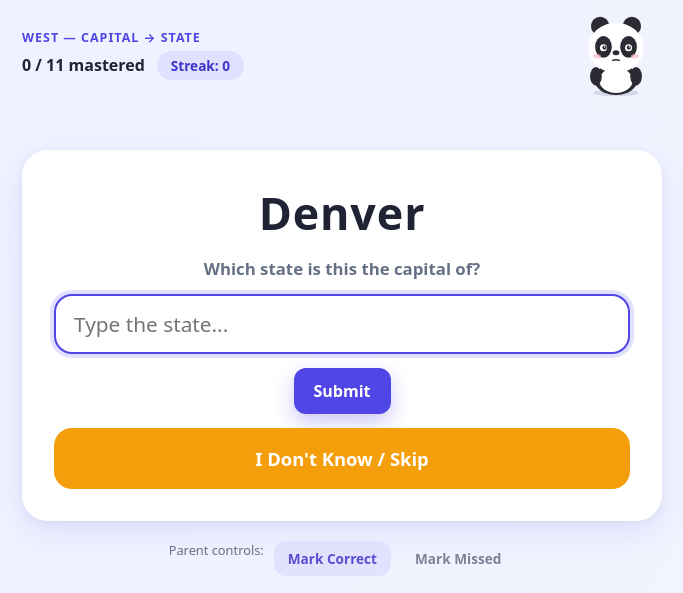
Test: QuizScreen parent controls › supports parent Mark Correct in Capital to State mode
Click the button "Mark Correct" at coordinates (332, 558), box [274, 541, 391, 576]
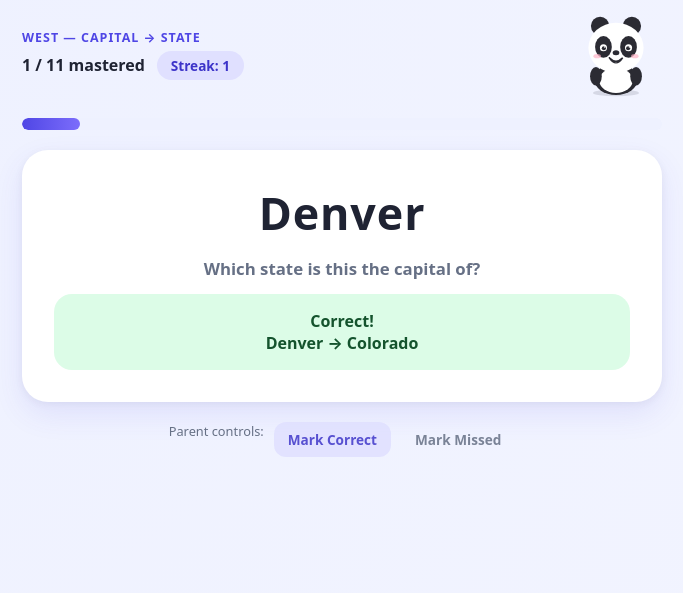
Expected: the text "Correct!" is shown, [310, 310, 374, 332]
